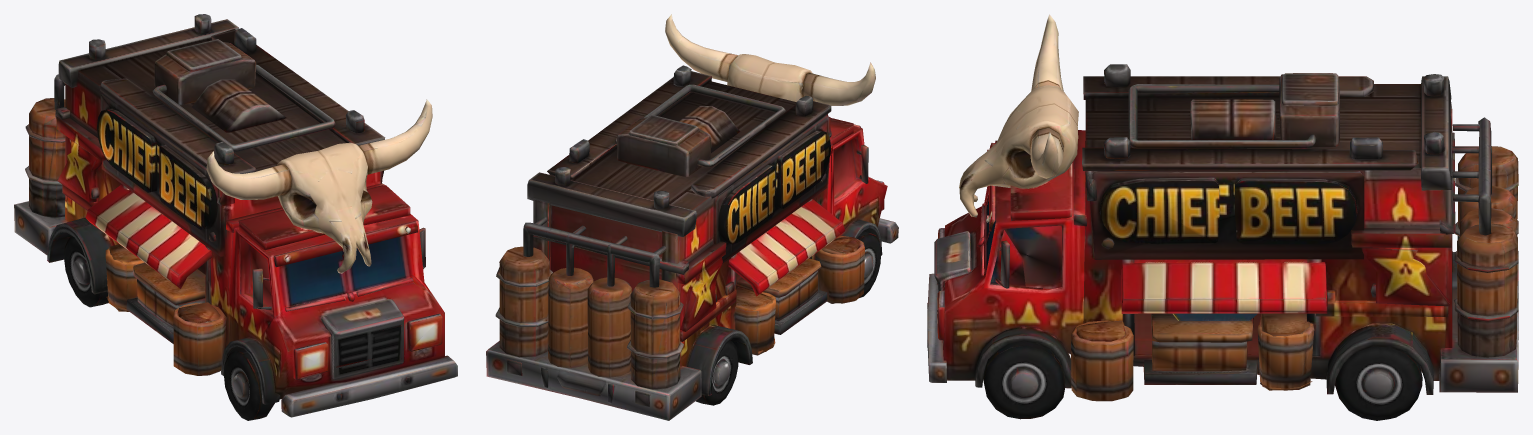
The model's file is beef.glb.
The picture shows the model from 3 angles, left to right: view 1: azimuth 30°, elevation 25°; view 2: azimuth 150°, elevation 25°; view 3: azimuth 270°, elevation 25°; orthographic projection. The views are drawn at different scales.
Parts seen in each view (by area): view 1: beef; view 2: beef; view 3: beef.
Part boxes in pixels (x1,y1,x2,y2): beef: (14, 14, 457, 420); beef: (486, 14, 898, 420); beef: (927, 14, 1518, 420).
Bounding box in the file's own units: 2.9 × 3.08 × 5.52.
Materials: 1 (1 with a texture image).
